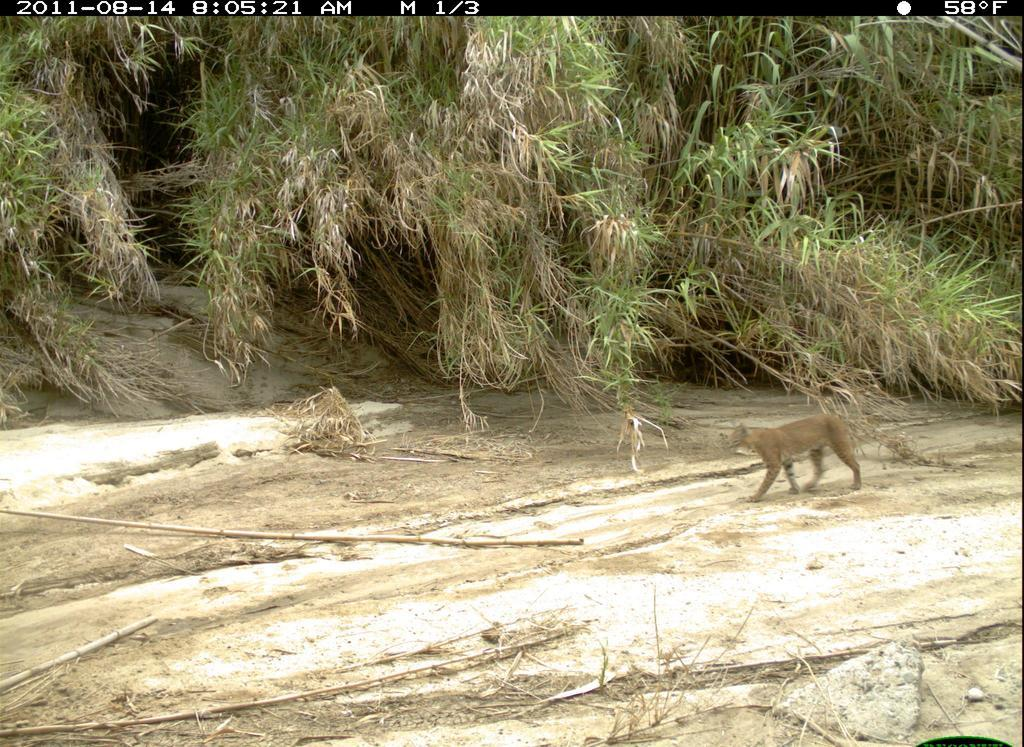bobcat: (719, 414, 871, 504)
